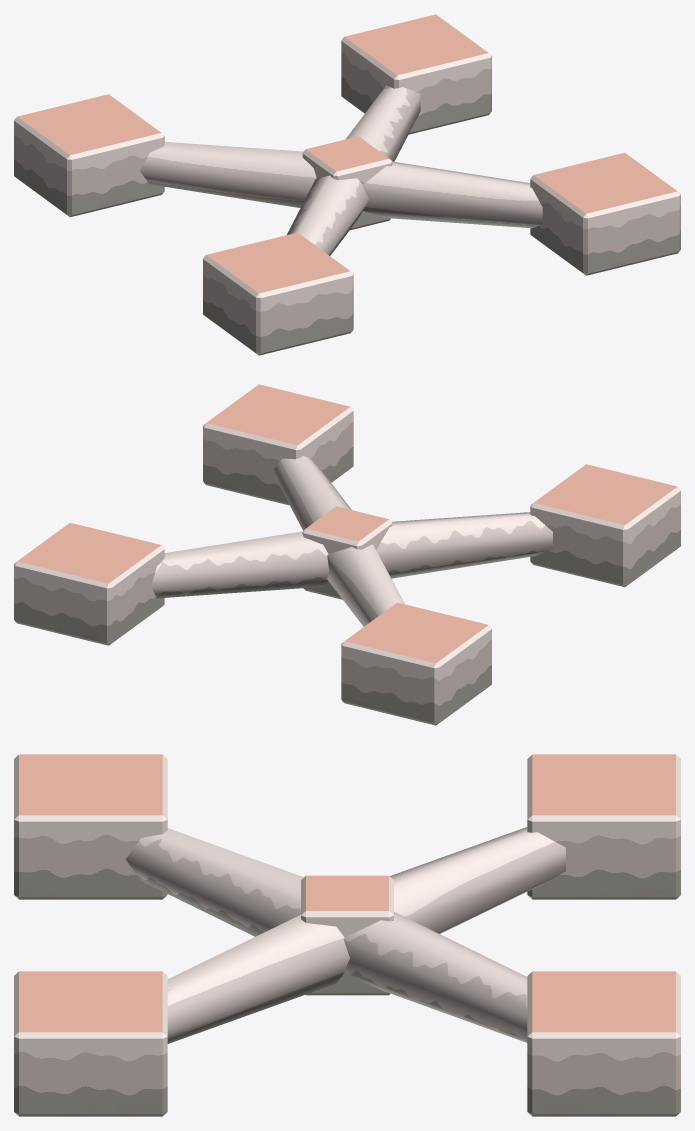
Rendered from R4C_ROD_CROSS_LOD1.glb.
The picture shows the model from 3 angles, top to bottom: view 1: azimuth 30°, elevation 25°; view 2: azimuth 150°, elevation 25°; view 3: azimuth 270°, elevation 25°; orthographic projection. The views are drawn at different scales.
Visible parts, largest first — view 1: R4C_ROD_CROSS_LOD1; view 2: R4C_ROD_CROSS_LOD1; view 3: R4C_ROD_CROSS_LOD1.
Part boxes in pixels (<box>): R4C_ROD_CROSS_LOD1: <box>14,14,680,355</box>; R4C_ROD_CROSS_LOD1: <box>14,384,680,725</box>; R4C_ROD_CROSS_LOD1: <box>14,754,680,1116</box>.
Bounding box in the file's own units: 1.62 × 0.226 × 1.62.
Materials: 3 (3 with a texture image).
